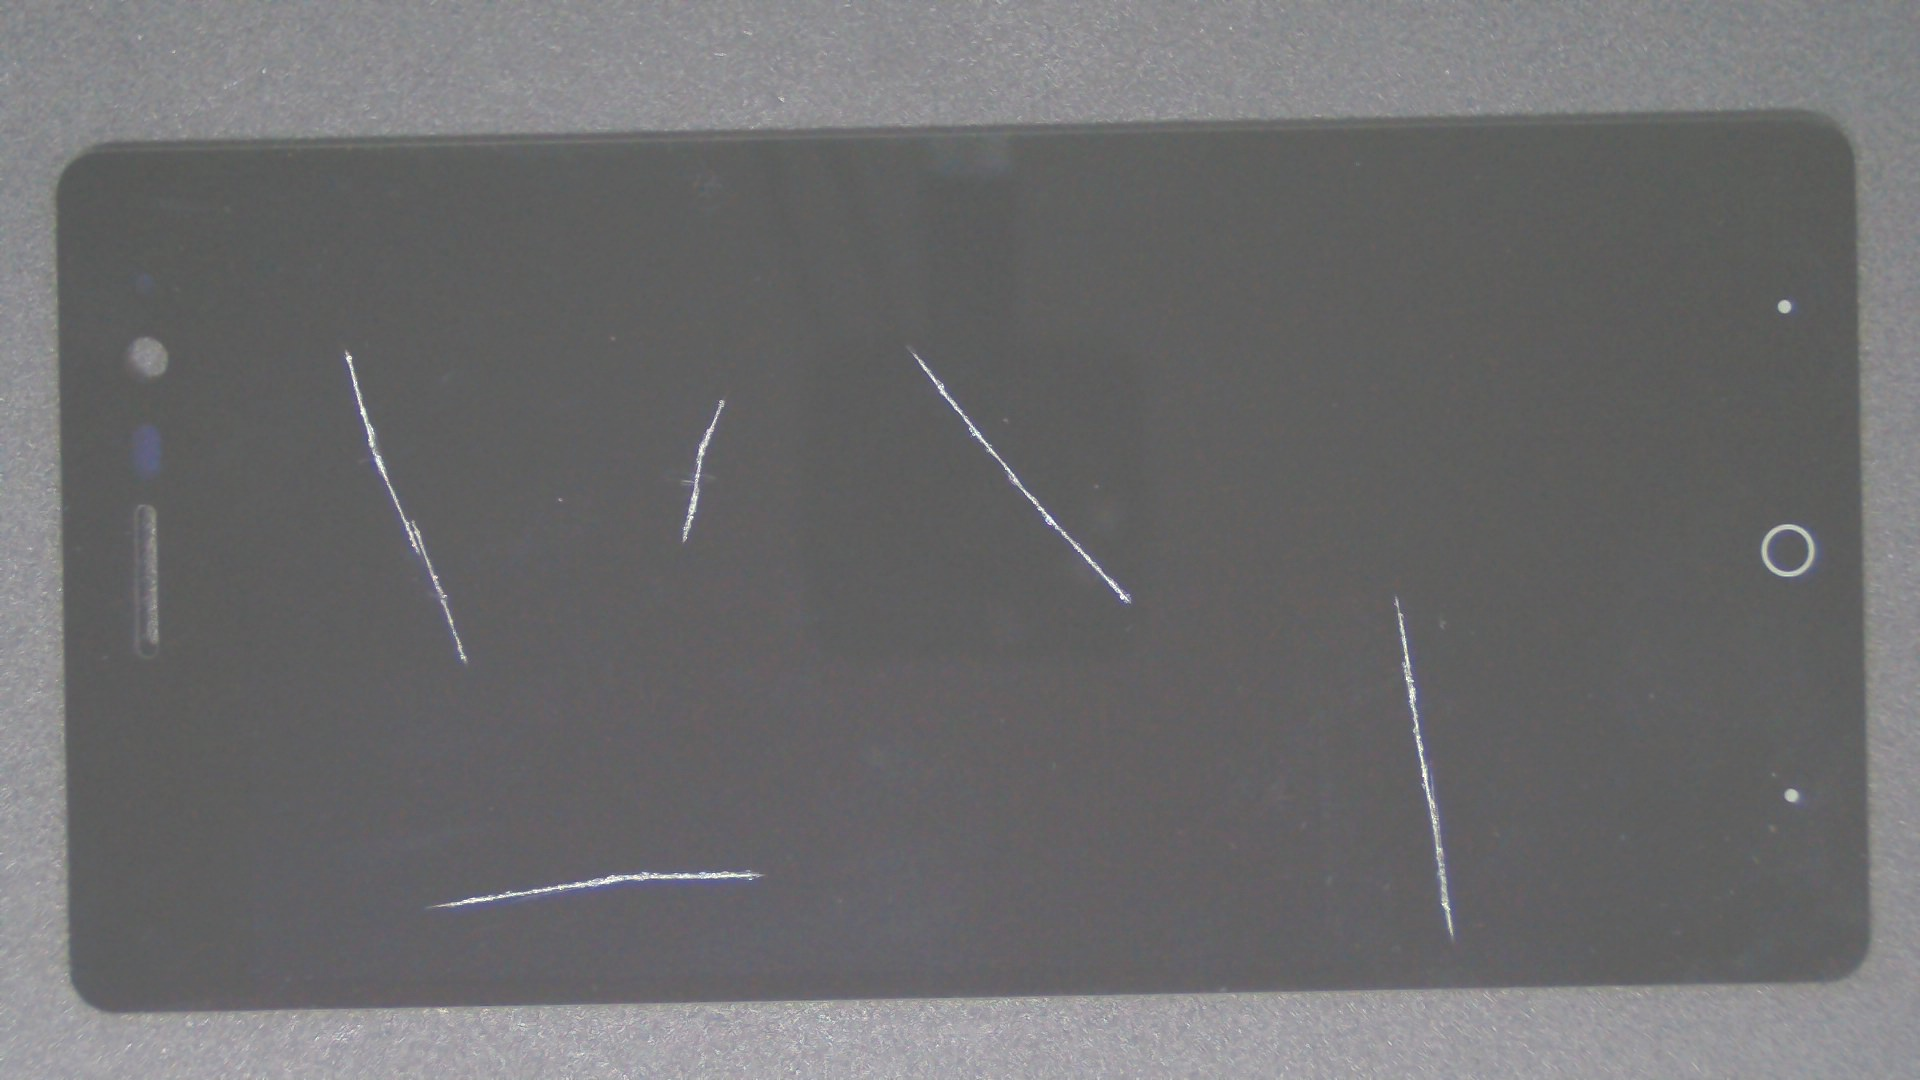oil: (699, 297, 1920, 891), (376, 434, 1126, 1080), (454, 173, 1360, 520), (359, 198, 1077, 599), (171, 169, 516, 527)
